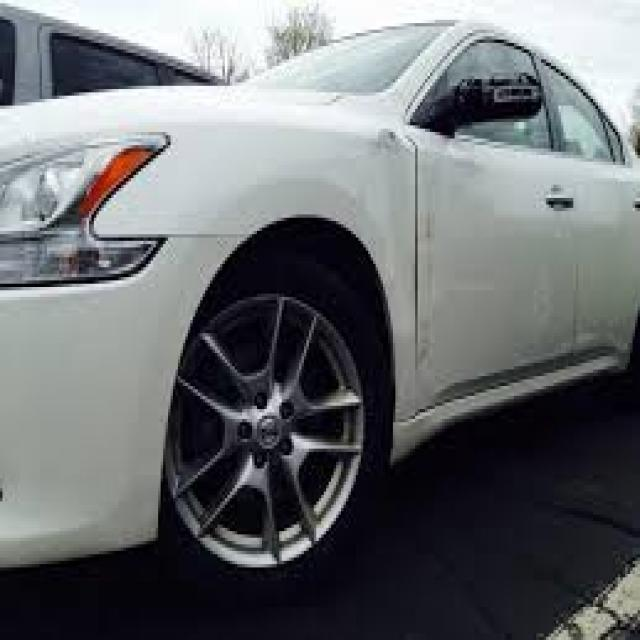minor: (412, 74, 532, 136)
